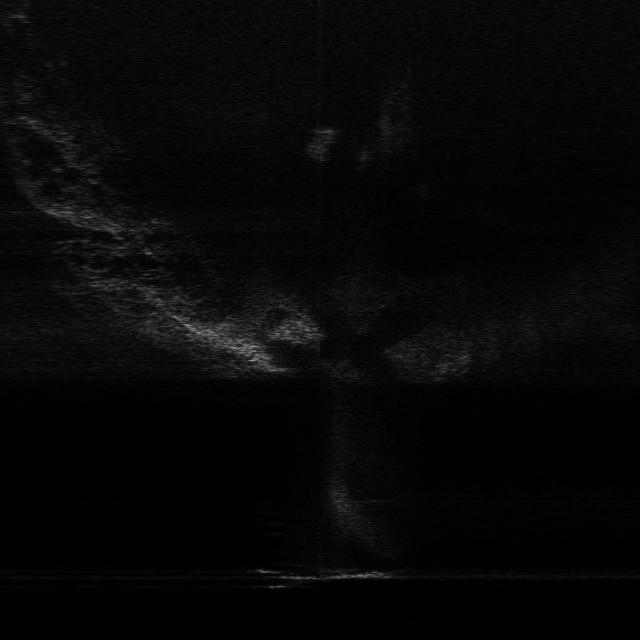plane: (243, 564, 409, 592)
